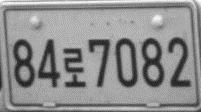0: (114, 37, 137, 86)
2: (167, 36, 192, 88)
4: (36, 38, 60, 87)
7: (87, 38, 110, 87)
8: (141, 37, 165, 86), (12, 38, 35, 88)
로: (63, 47, 86, 88)
